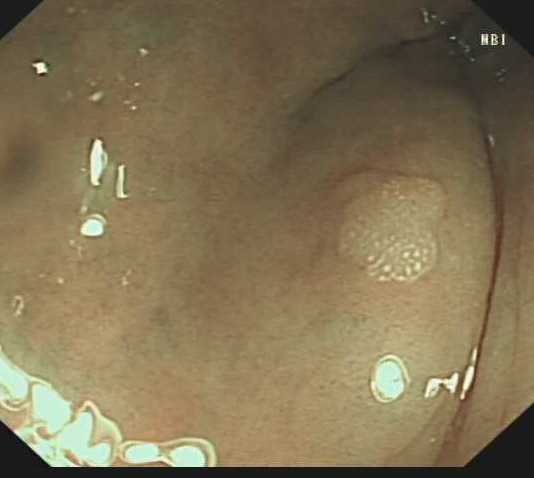others: (335, 174, 448, 284)
